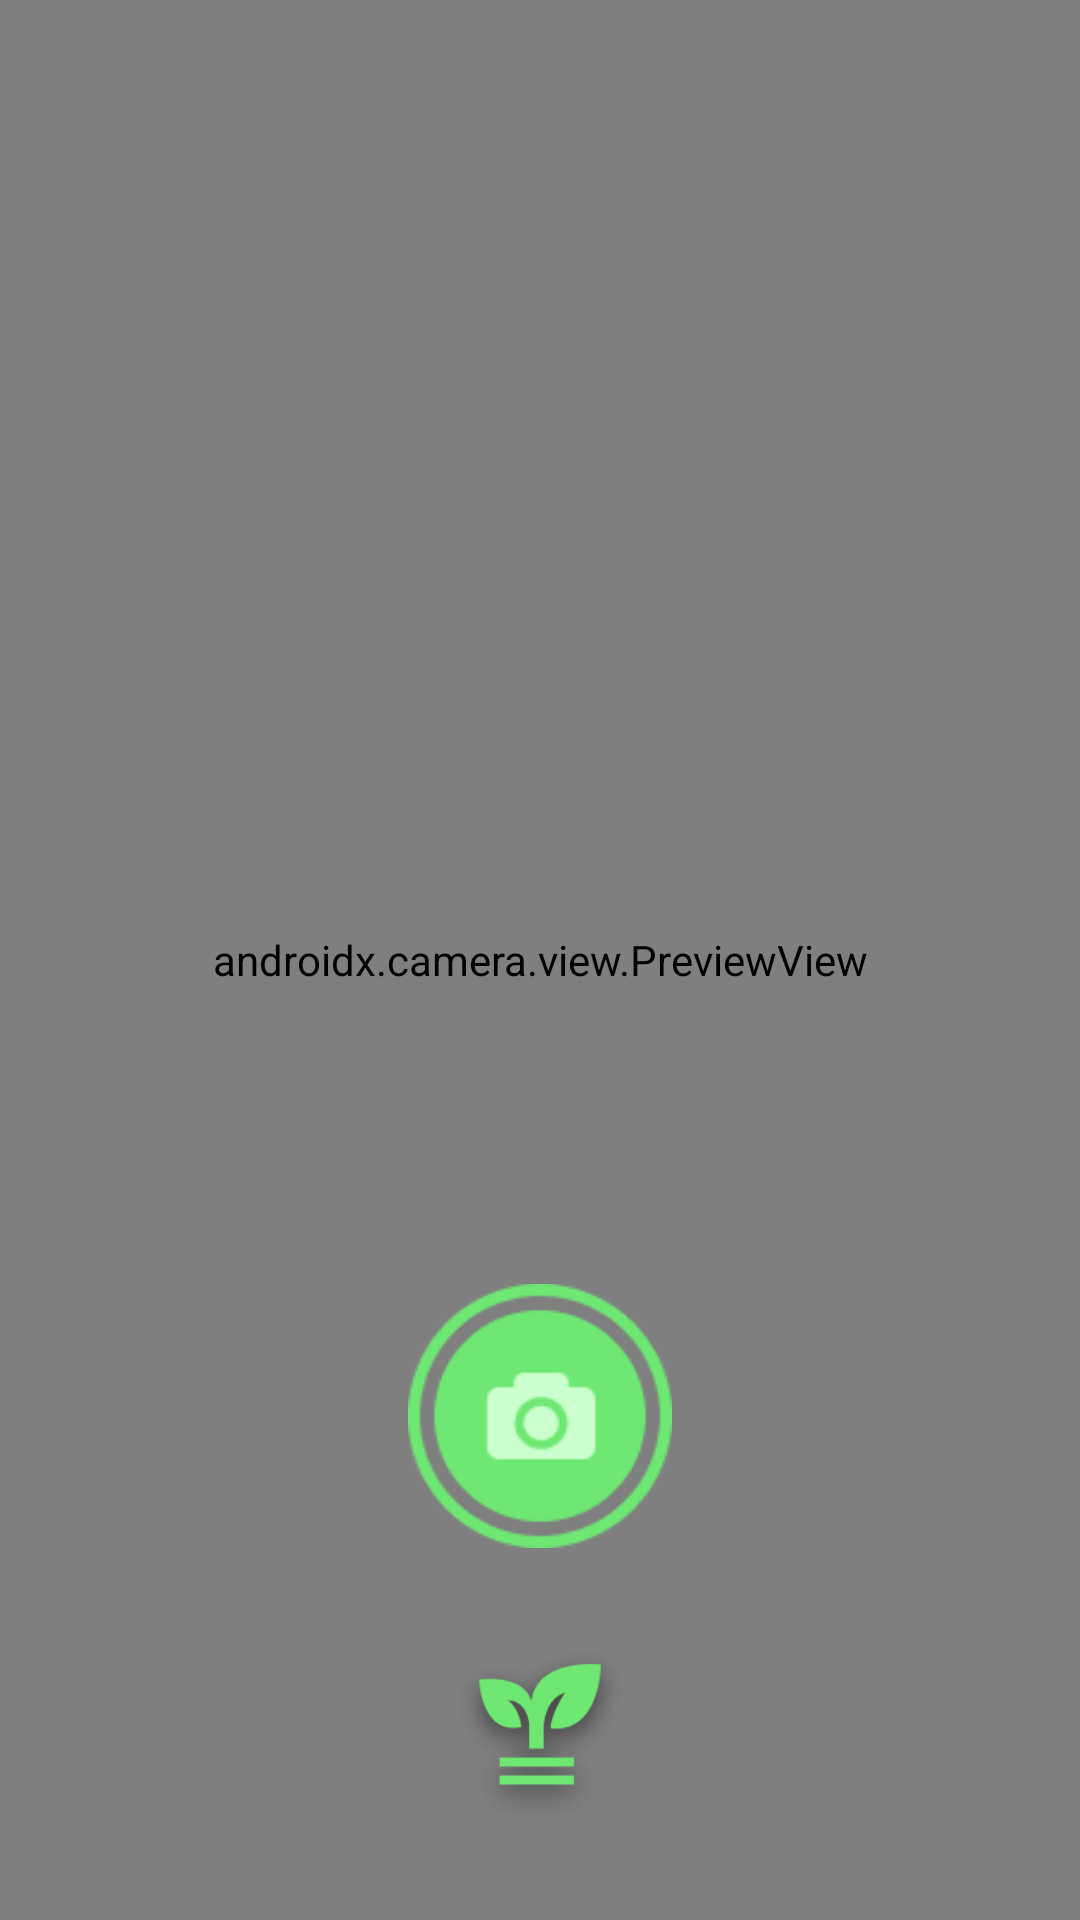

Point at icon controls on the screen. Image size 1080*1920, points as point (x, y).
camera floro: point (540, 1416)
